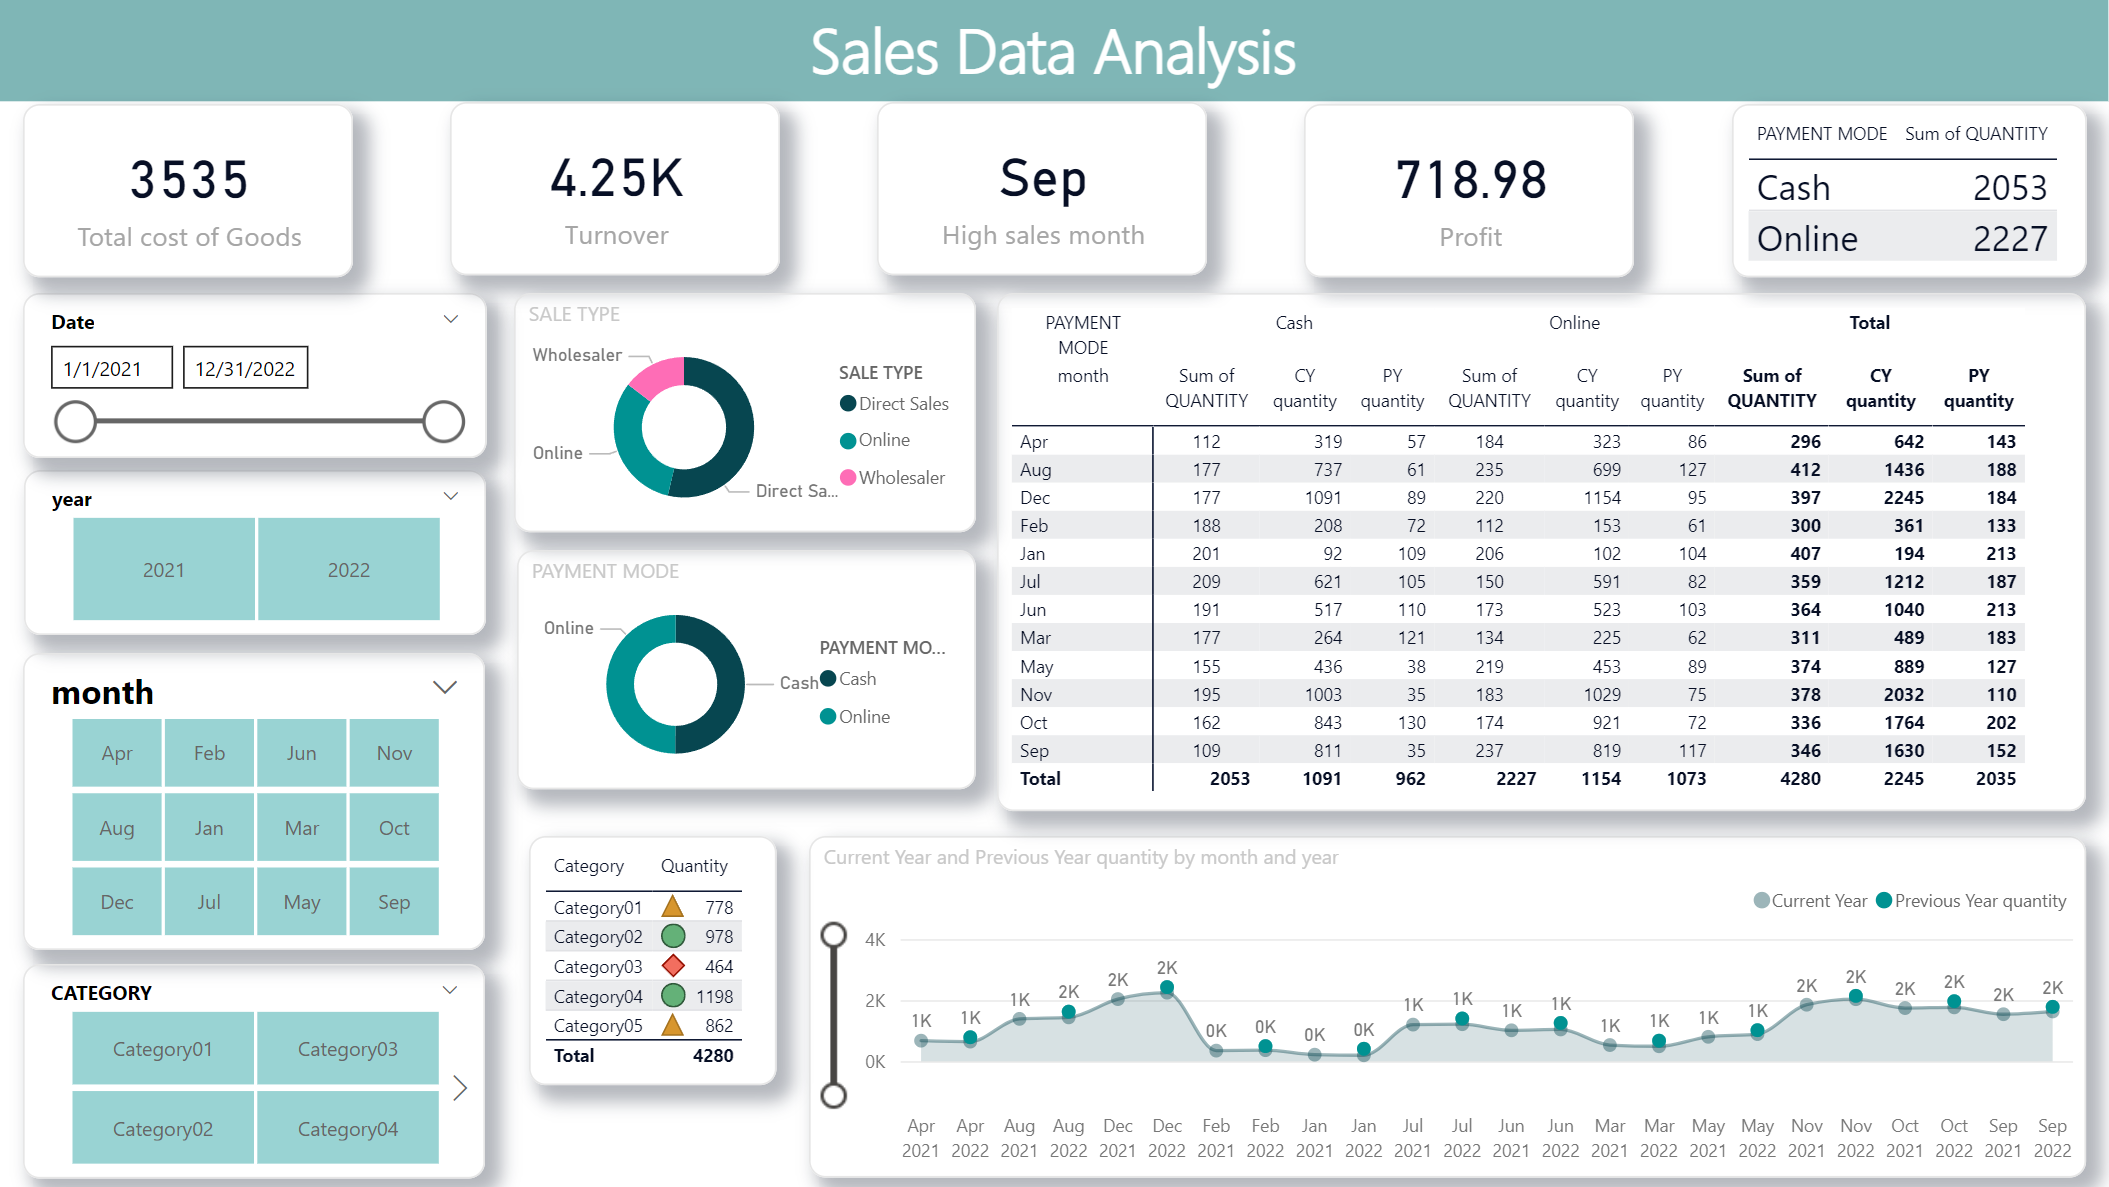

The page's visual inventory and layout, read from the dashboard file:
{"tool":"powerbi","page":{"name":"Sales Data Analysis","canvas":[1280,720],"ordinal":0},"visuals":[{"type":"textbox","box":[0,0,1279.4,62.4],"z":0},{"type":"slicer","fields":{"Values":["calender.year"]},"box":[15.9,285.8,280.1,100.5],"z":1000},{"type":"slicer","fields":{"Values":["calender.month"]},"box":[15.3,396.2,280.1,179.7],"z":2000},{"type":"slicer","fields":{"Values":["calender.Date"]},"box":[15.3,178.4,280.8,99.8],"z":3000},{"type":"card","fields":{"Values":["Sum(Master Data.BUYING PRIZE)"]},"box":[15.3,63.6,200,104.8],"z":4000},{"type":"card","fields":{"Values":["Sum(Master Data.SELLING PRICE)"]},"box":[274,62.4,200,105],"z":5000},{"type":"card","fields":{"Values":["Input Data.high sales month"]},"box":[532.8,62.4,200,105],"z":6000},{"type":"card","fields":{"Values":["Input Data.Profit"]},"box":[791.6,63.6,200.3,104.8],"z":7000},{"type":"slicer","fields":{"Values":["Master Data.CATEGORY"]},"box":[15.3,584.6,280.1,129.8],"z":8000},{"type":"tableEx","fields":{"Values":["Input Data.PAYMENT MODE","Sum(Input Data.QUANTITY)"]},"box":[1050.7,63.6,214.6,104.8],"z":9000},{"type":"donutChart","title":" SALE TYPE","fields":{"Category":["Input Data.SALE TYPE"],"Y":["CountNonNull(Input Data.SALE TYPE)"]},"box":[312.9,178.4,280,144.7],"z":10000},{"type":"donutChart","title":"PAYMENT MODE","fields":{"Category":["Input Data.PAYMENT MODE"],"Y":["CountNonNull(Input Data.PAYMENT MODE)"]},"box":[314.7,333.8,278.3,144.7],"z":11000},{"type":"stackedAreaChart","fields":{"Category":["calender.month","calender.year"],"Y":["Input Data.CY quantity","Input Data.PY quantity"]},"box":[491.6,507.2,773.7,207.1],"z":12000},{"type":"pivotTable","fields":{"Rows":["calender.month"],"Columns":["Input Data.PAYMENT MODE","Input Data.SALE TYPE"],"Values":["Sum(Input Data.QUANTITY)","Input Data.CY quantity","Input Data.PY quantity"]},"box":[605.2,178.4,660.1,314.5],"z":13000},{"type":"tableEx","fields":{"Values":["Master Data.CATEGORY","Sum(Input Data.QUANTITY)"]},"box":[321.9,507.2,150.4,151],"z":13001}]}

Visuals, with their boxes in screenshot pixels (x1, y1, x2, y2), scaled from the page's 1280x720 canvas onto the 2109x1187 screenshot:
textbox: 0, 0, 2108, 103
slicer - calender.year: 26, 471, 488, 637
slicer - calender.month: 25, 653, 487, 949
slicer - calender.Date: 25, 294, 488, 459
card - Sum(Master Data.BUYING PRIZE): 25, 105, 355, 278
card - Sum(Master Data.SELLING PRICE): 451, 103, 781, 276
card - Input Data.high sales month: 878, 103, 1207, 276
card - Input Data.Profit: 1304, 105, 1634, 278
slicer - Master Data.CATEGORY: 25, 964, 487, 1178
tableEx - Input Data.PAYMENT MODE x Sum(Input Data.QUANTITY): 1731, 105, 2085, 278
" SALE TYPE" donutChart: 516, 294, 977, 533
"PAYMENT MODE" donutChart: 519, 550, 977, 789
stackedAreaChart - calender.month x calender.year: 810, 836, 2085, 1178
pivotTable - calender.month x Input Data.PAYMENT MODE: 997, 294, 2085, 813
tableEx - Master Data.CATEGORY x Sum(Input Data.QUANTITY): 530, 836, 778, 1085
